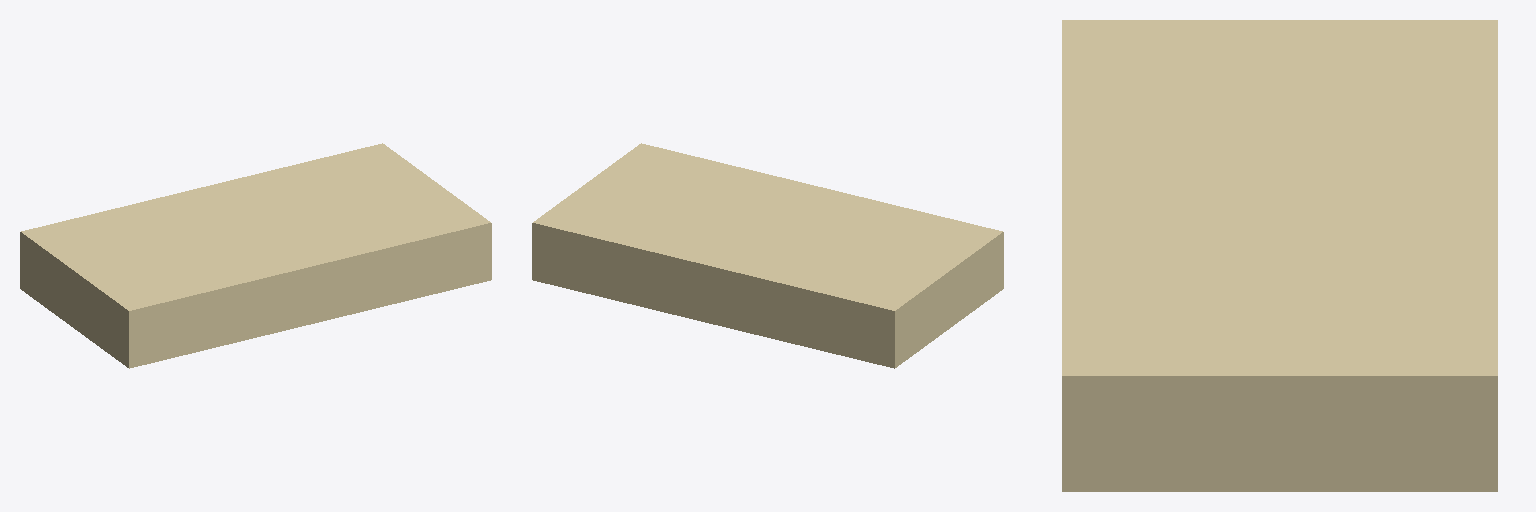
robot.urdf — box.urdf:
<?xml version="1.0" ?>
<robot name="box.urdf">
  <link name="baseLink">
    <contact>
      <lateral_friction value="1.0"/>
      <rolling_friction value="0.0001"/>
      <inertia_scaling value="3.0"/>
    </contact>
    <inertial>
      <origin rpy="0 0 0" xyz="0 0 0"/>
       <mass value="0.1"/>
       <inertia ixx="1" ixy="0" ixz="0" iyy="1" iyz="0" izz="1"/>
    </inertial>
    <visual>
      <origin rpy="0 0 0" xyz="0 0 0"/>
      <geometry>
        <!-- <box size="0.79 0.41 0.12"/> -->
        <mesh filename="box/box.obj" scale="0.79 0.41 0.12"/>
      </geometry>
      <material name="white">
        <color rgba="0.9 0.85 0.7 1"/>
      </material>
    </visual>
    <collision>
      <origin rpy="0 0 0" xyz="0 0 0"/>
      <geometry>
        <mesh filename="box/box.obj" scale="0.79 0.41 0.12"/>
	 	    <!-- <box size="0.79 0.41 0.12"/> -->
      </geometry>
    </collision>
  </link>
</robot>

--- Facts derived from the render (not from the file) ---
The picture shows the robot from 3 angles, left to right: view 1: azimuth 30°, elevation 25°; view 2: azimuth 150°, elevation 25°; view 3: azimuth 270°, elevation 25°; orthographic projection.
Robot: box.urdf — 1 links, 0 joints (none); root link baseLink; default pose: every joint at zero.
Visible links, largest first — view 1: baseLink; view 2: baseLink; view 3: baseLink.
Link boxes in pixels (x1,y1,x2,y2): baseLink: (20,143,491,368); baseLink: (532,143,1003,368); baseLink: (1062,20,1497,491).
Size in the robot's own frame: 0.79 by 0.41 by 0.12 metres.
1 mesh visuals loaded from 1 distinct referenced files (1 OBJ).
